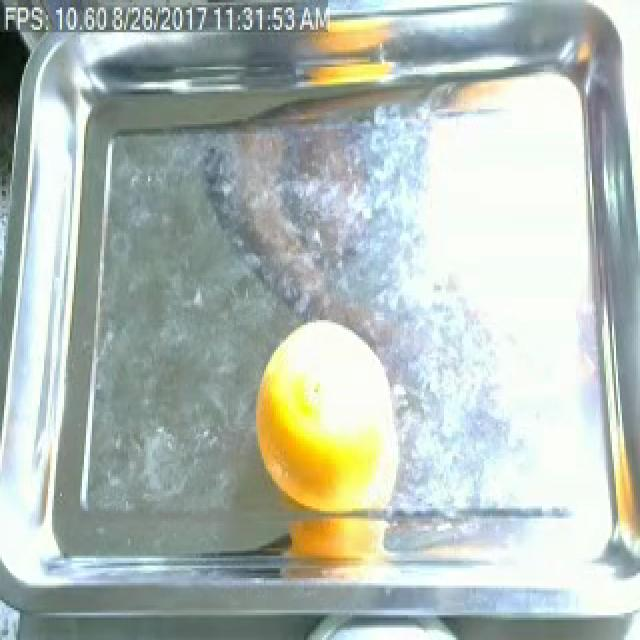Fruit: (250, 312, 400, 518), (296, 50, 400, 94), (302, 15, 398, 62)
